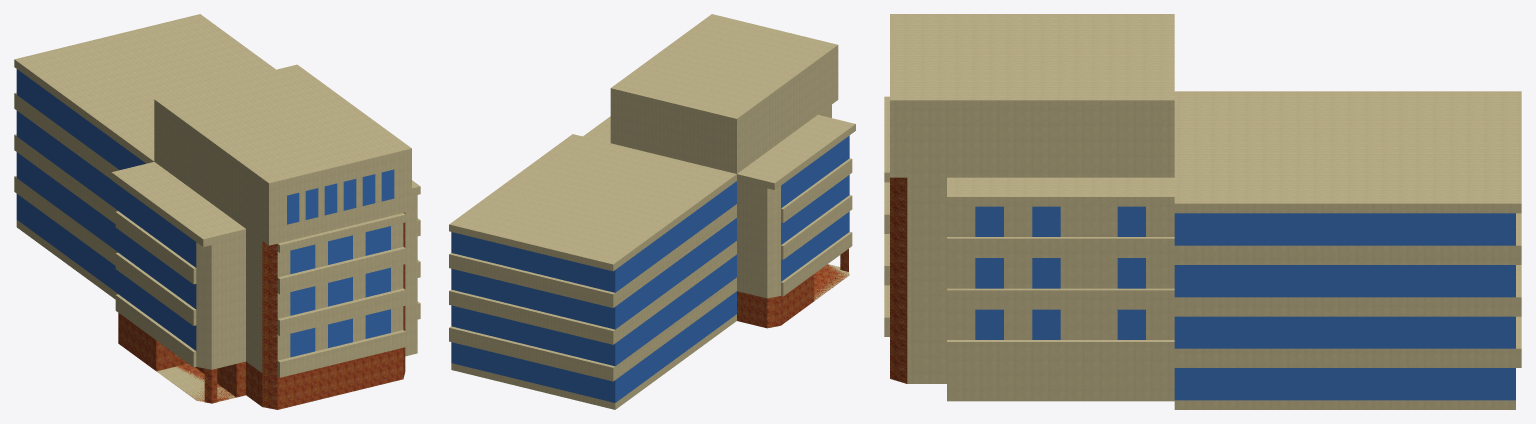
Rendered from 4jiao.FBX.
3 renders of one model, left to right at view 1: azimuth 30°, elevation 25°; view 2: azimuth 150°, elevation 25°; view 3: azimuth 270°, elevation 25°, orthographic. The views are drawn at different scales.
Parts seen in each view (by area): view 1: Line001; view 2: Line001; view 3: Line001.
Part boxes in pixels (left/top/right/bottom): Line001: left=14, top=14, right=420, bottom=409; Line001: left=449, top=14, right=855, bottom=409; Line001: left=884, top=14, right=1521, bottom=409.
Bounding box in the file's own units: 58.29 × 55 × 112.
Materials: 3 (2 with a texture image).
